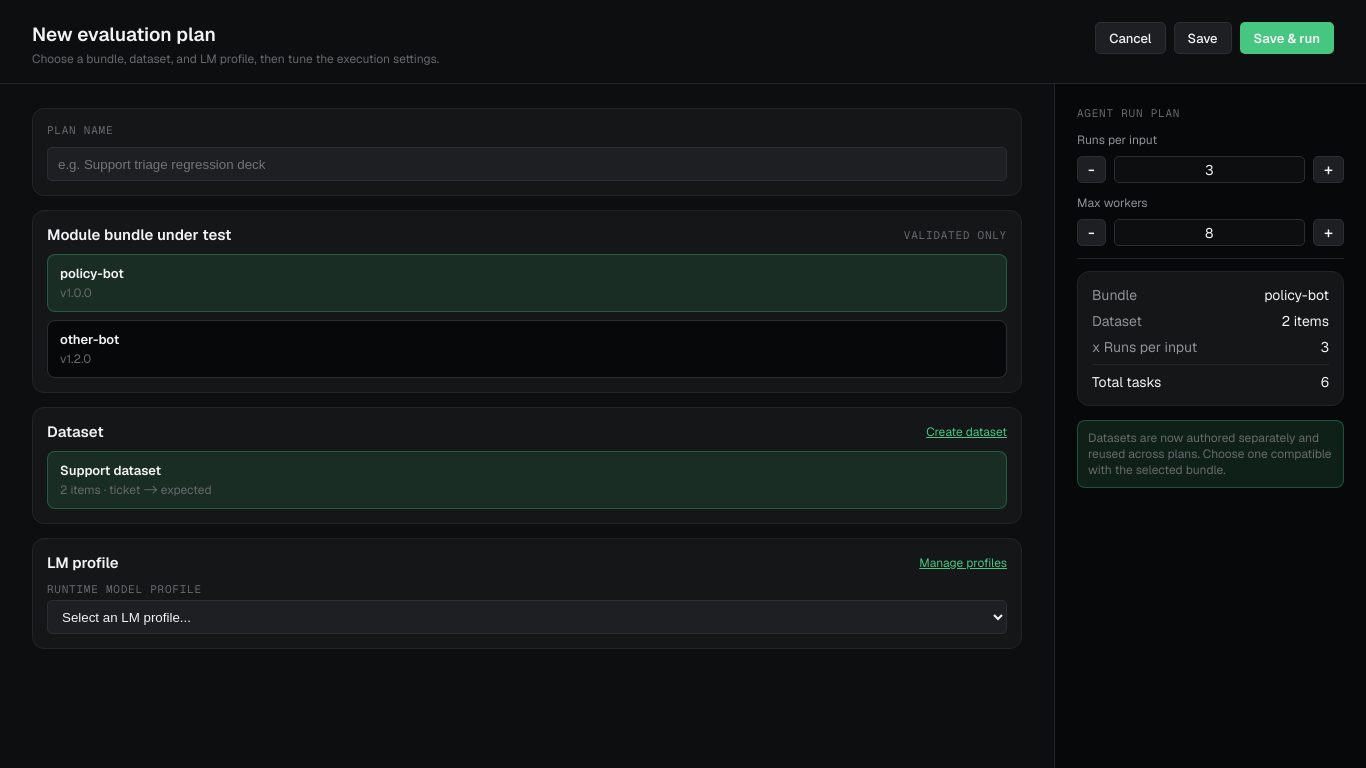
PlansPage › filters datasets to the selected bundle
The width and height of the screenshot is (1366, 768).
Expected: the text "Support dataset" is shown, top-left (60, 462), bottom-right (161, 479)
Expected: the text "Other dataset" is not shown
Click the text "other-bot": coordinates (90, 340) top-left (60, 331), bottom-right (119, 348)
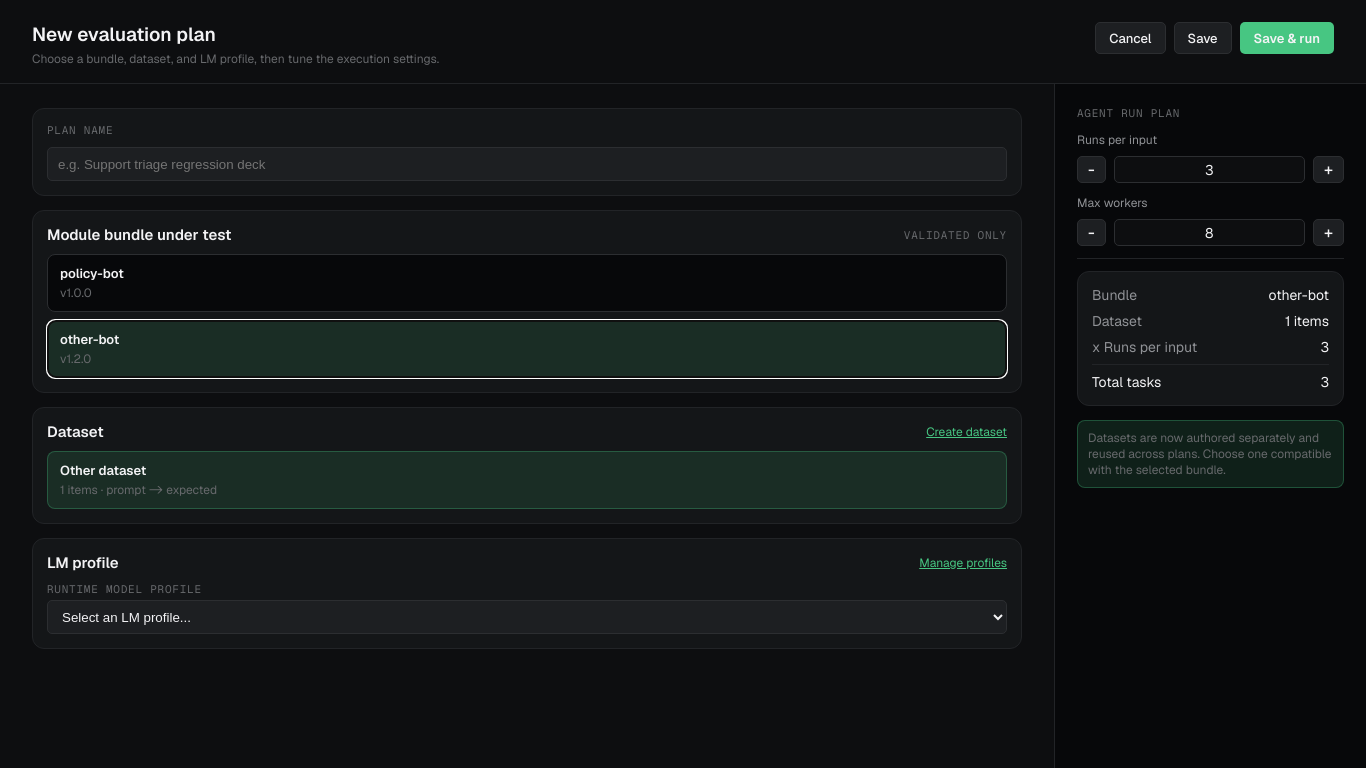
Now the text "Other dataset" is shown, box top-left (60, 462), bottom-right (146, 479)
Now the button "Support dataset" is gone
